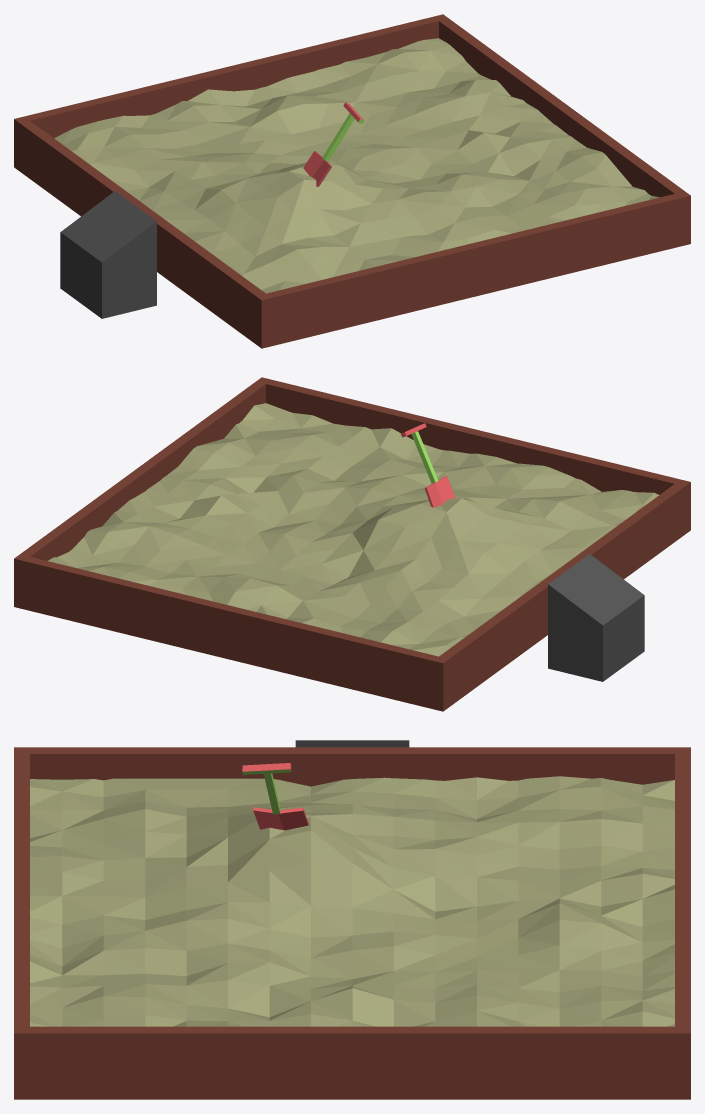
The model's file is playpen.glb.
3 views of the same model, one above another, from view 1: azimuth 30°, elevation 25°; view 2: azimuth 150°, elevation 25°; view 3: azimuth 270°, elevation 25° (orthographic). The views are drawn at different scales.
Parts seen in each view (by area): view 1: Plane, Cube, Cube.001, Shovel; view 2: Plane, Cube, Cube.001, Shovel; view 3: Plane, Cube, Shovel, Cube.001.
Boxes of the visible parts, x1,y1,x2,y2 form: Plane: (54, 38, 659, 293); Cube: (14, 14, 690, 348); Cube.001: (60, 191, 156, 318); Shovel: (303, 102, 364, 186); Plane: (48, 403, 658, 656); Cube: (14, 377, 690, 711); Cube.001: (548, 554, 644, 681); Shovel: (401, 423, 455, 507); Plane: (30, 776, 674, 1026); Cube: (14, 747, 690, 1099); Shovel: (242, 763, 308, 830); Cube.001: (295, 740, 409, 747).
Size of the model in its own units: 6.75 by 2.11 by 5.96.
